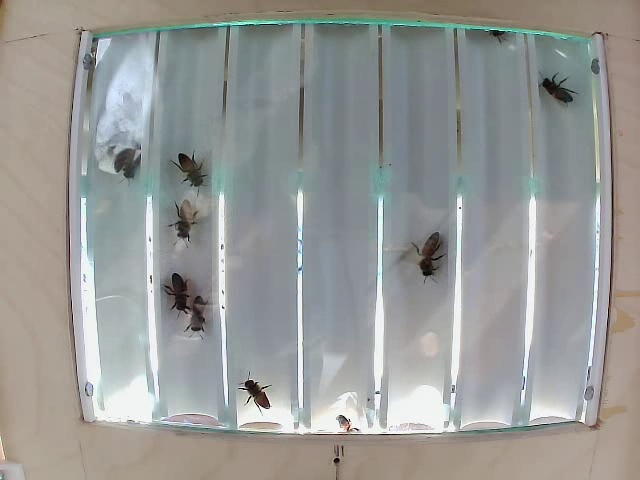bee: (241, 369, 276, 420), (169, 197, 199, 246), (415, 230, 441, 286), (184, 292, 217, 334), (182, 156, 210, 203), (113, 154, 146, 183), (549, 90, 572, 123), (164, 273, 186, 306)
